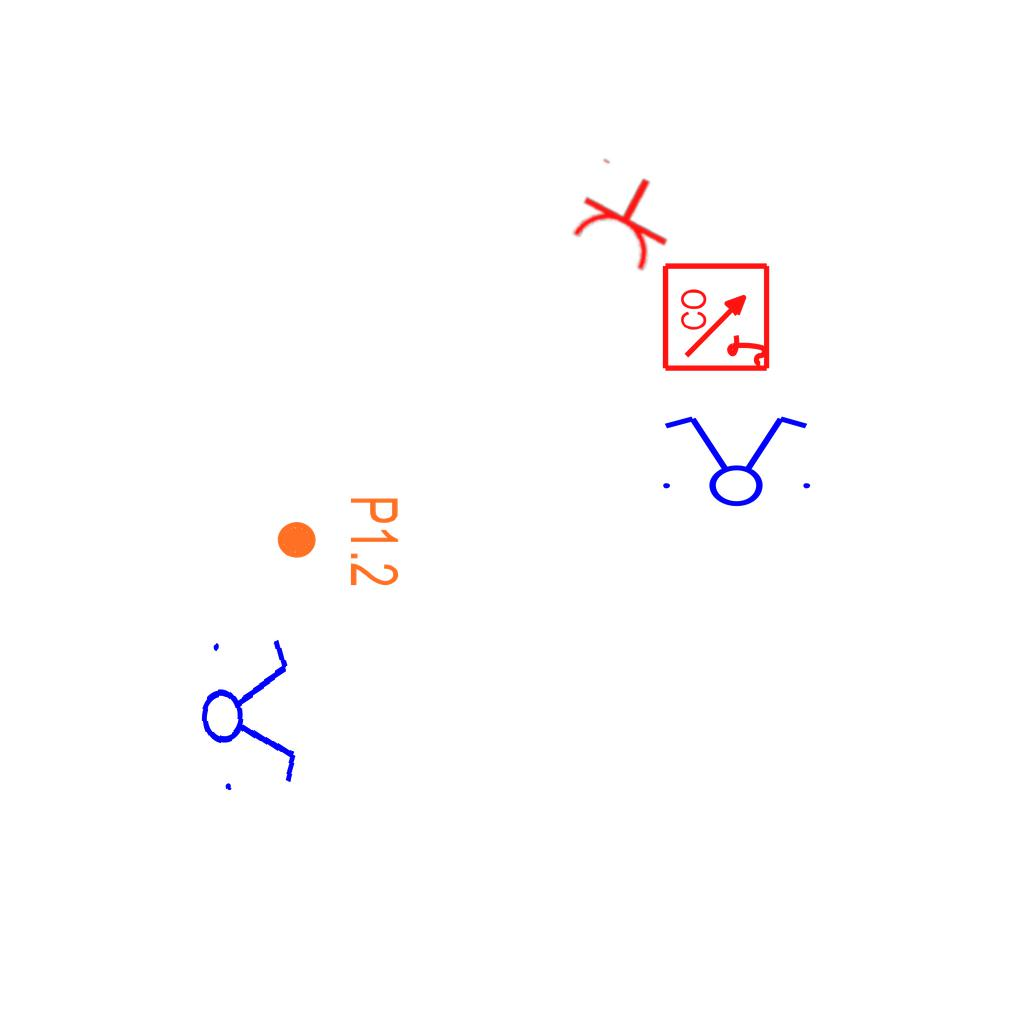Downlight_LED_Einbauleuchten_Flur: (274, 495, 402, 588)
ROA_Rauchmelder_optisch_mit_Signalgeber_(Sockelsirene): (661, 260, 774, 373)
Schukosteckdose_einfach: (560, 154, 691, 278)
Serienschalter: (192, 625, 304, 801), (651, 412, 819, 508)
